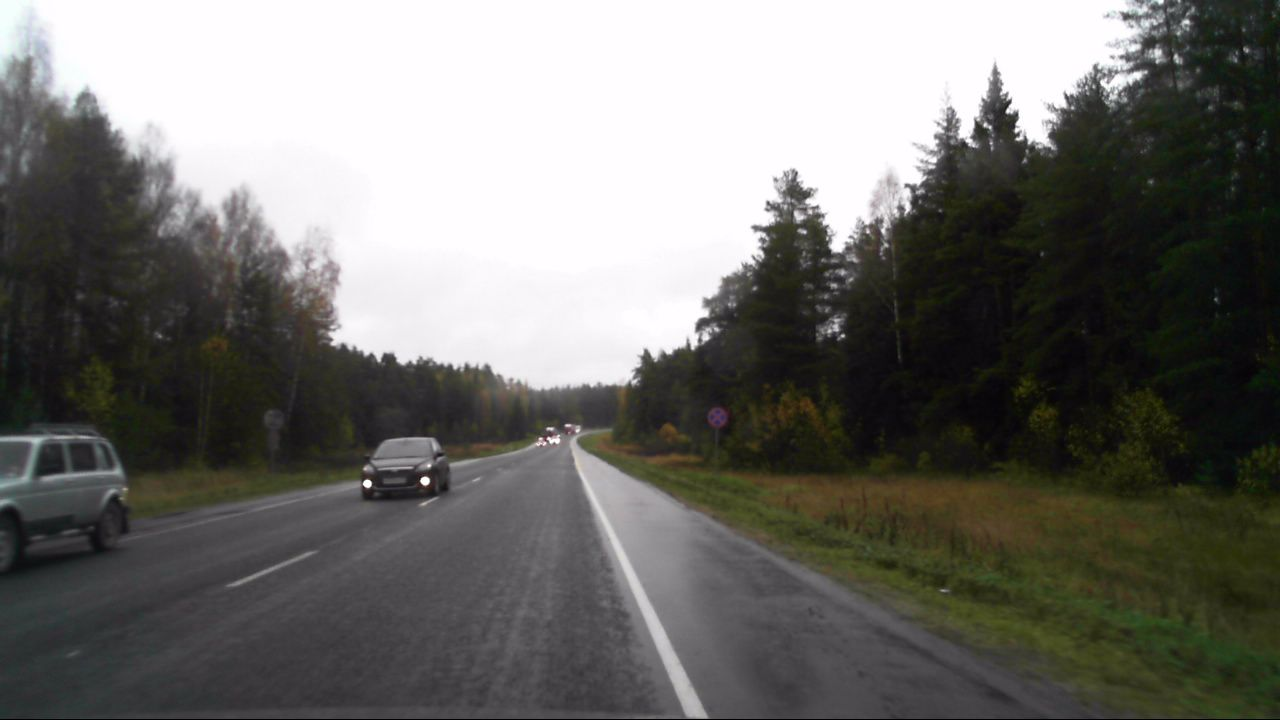No Parking: (706, 404, 730, 432)
